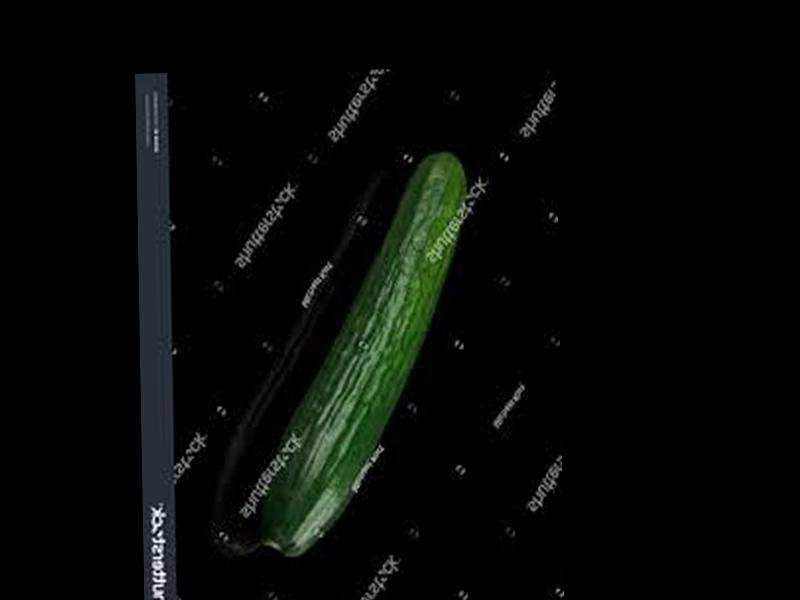Cucumber: (248, 148, 474, 556)
